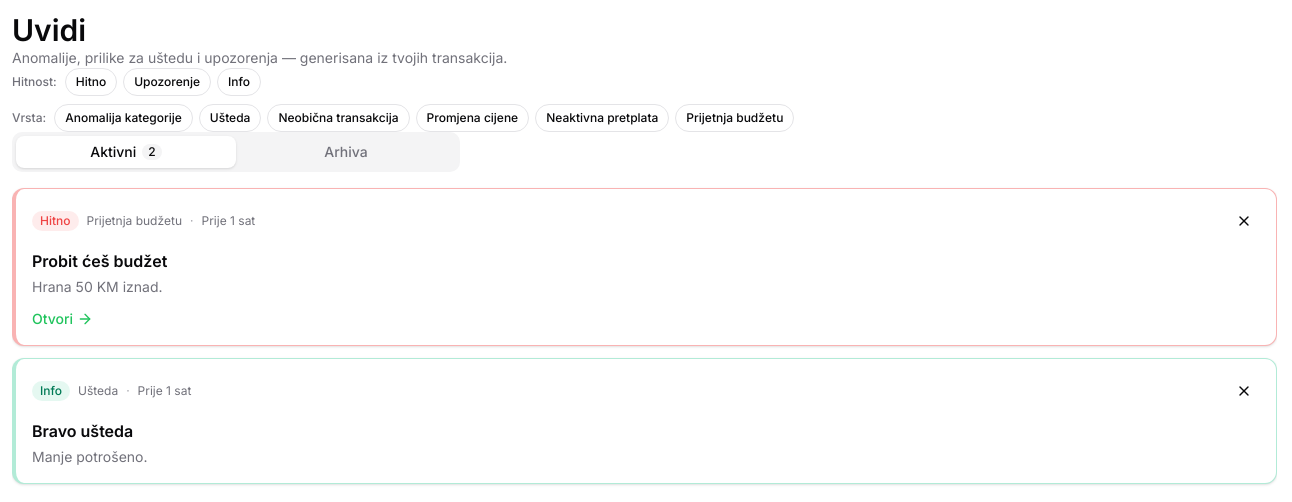
Test: UvidiClient › filters by severity
Click the button "Hitno" at (91, 82), box x1=65 y1=68 x2=117 y2=96
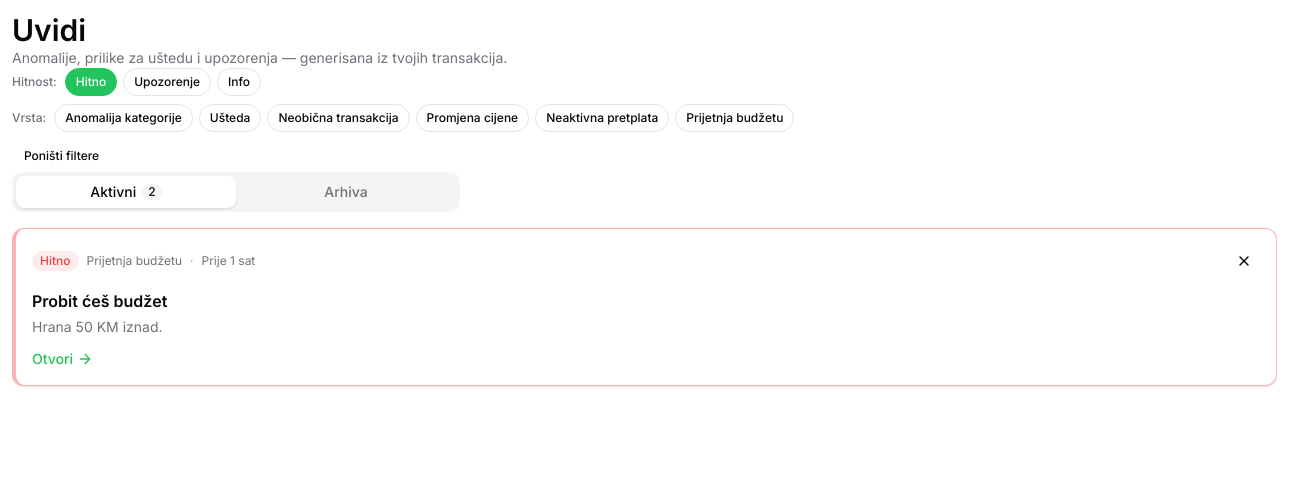
Expected: the heading "Probit ćeš budžet" is shown, x1=32 y1=291 x2=168 y2=311
Expected: the heading "Bravo ušteda" is gone
